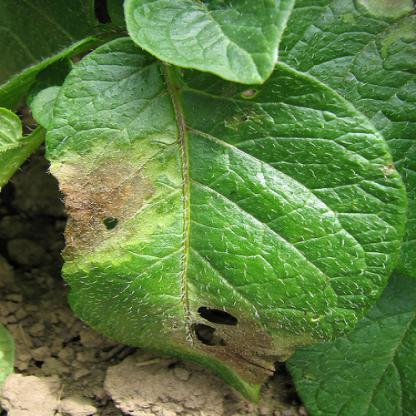potato leaf late blight: (44, 34, 409, 403)
